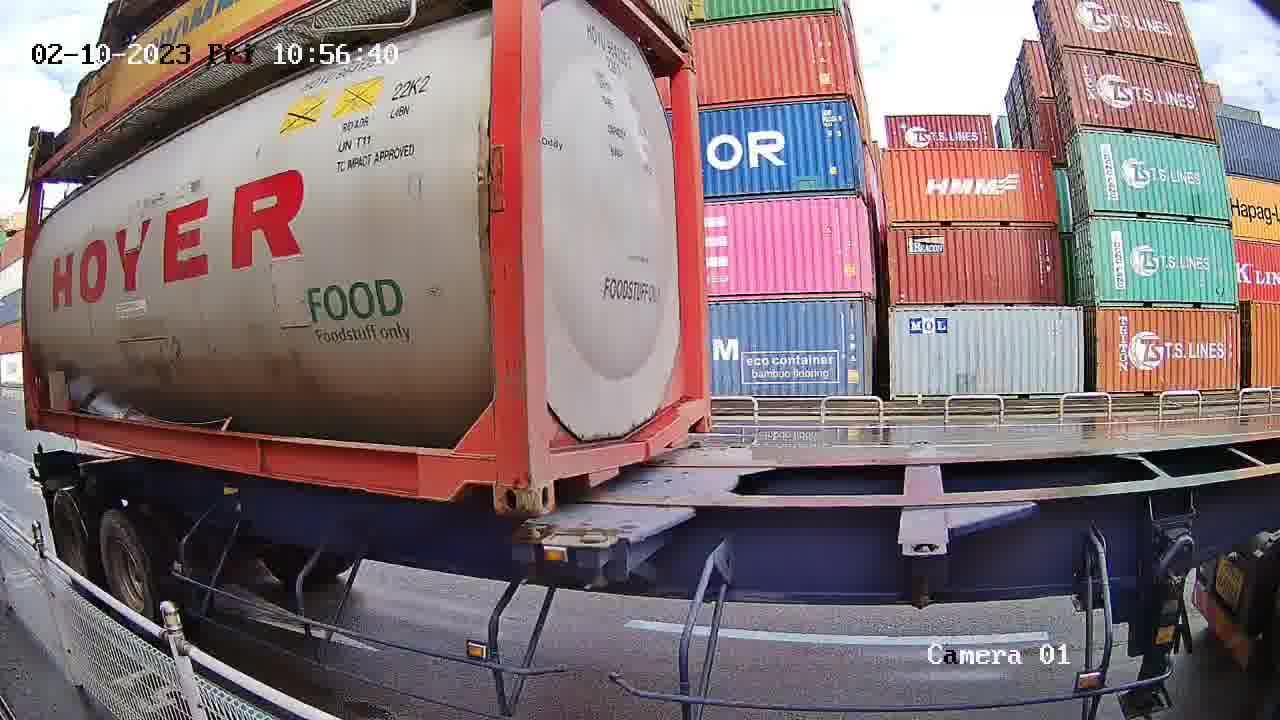Chassis: (576, 445, 753, 545)
Cone: (578, 532, 614, 588), (510, 526, 543, 586)
Hole_L: (531, 445, 577, 514)
Hole_R: (452, 445, 531, 514), (683, 397, 714, 436)
Tire: (100, 516, 160, 636), (53, 496, 93, 590)
